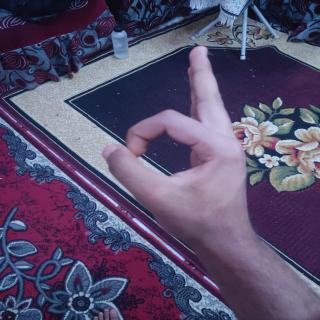Space: (76, 39, 274, 257)
